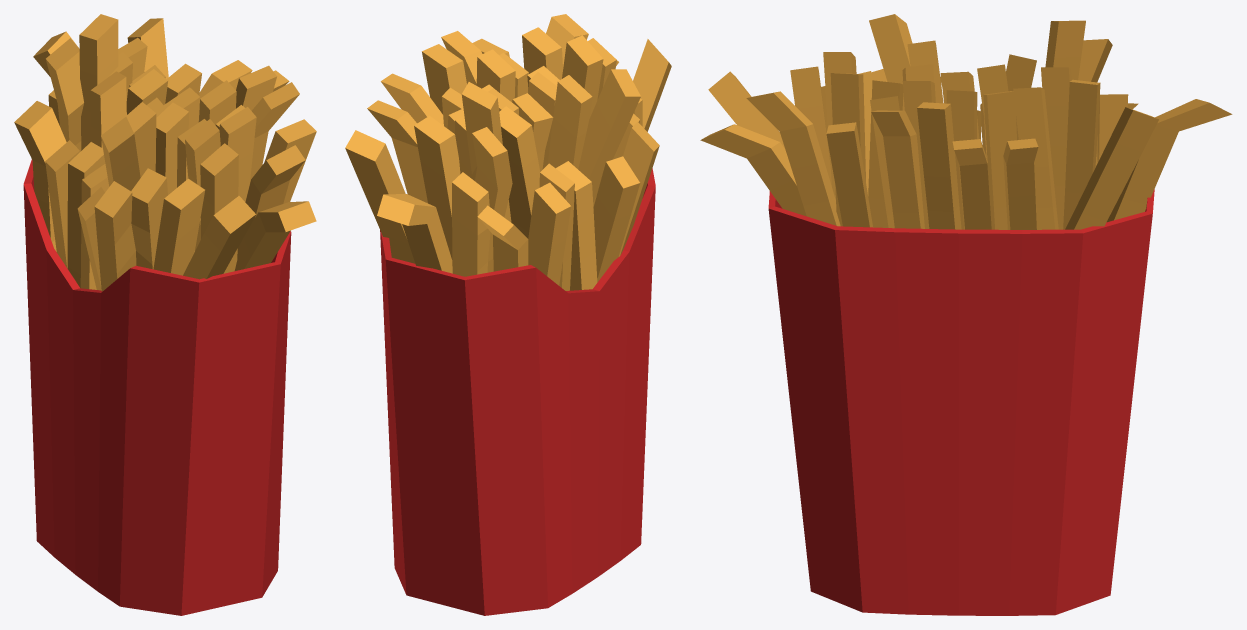
File: PackageFries.fbx
The picture shows the model from 3 angles, left to right: view 1: azimuth 30°, elevation 25°; view 2: azimuth 150°, elevation 25°; view 3: azimuth 270°, elevation 25°; orthographic projection. The views are drawn at different scales.
Visible parts, largest first — view 1: PackageFries; view 2: PackageFries; view 3: PackageFries.
Part boxes in pixels (<box>): PackageFries: <box>14,14,316,615</box>; PackageFries: <box>345,14,671,615</box>; PackageFries: <box>700,14,1232,615</box>.
Size of the model in its own units: 22.82 by 48.26 by 42.05.
